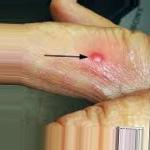Ants: (88, 51, 104, 63)
